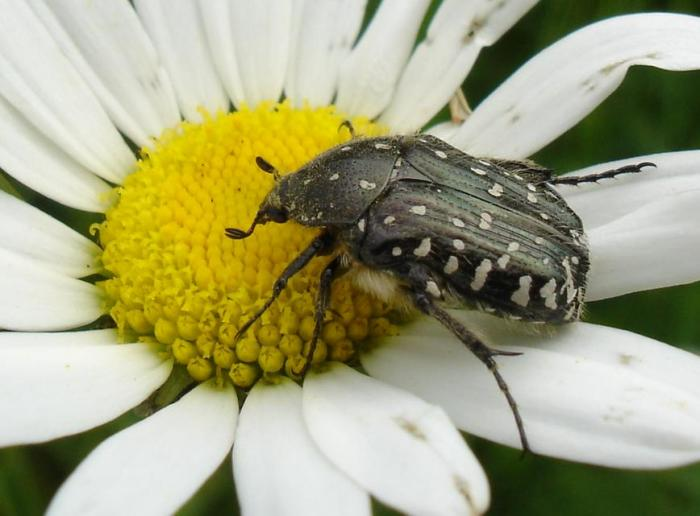Oxythyrea_funesta: (210, 117, 660, 478)
